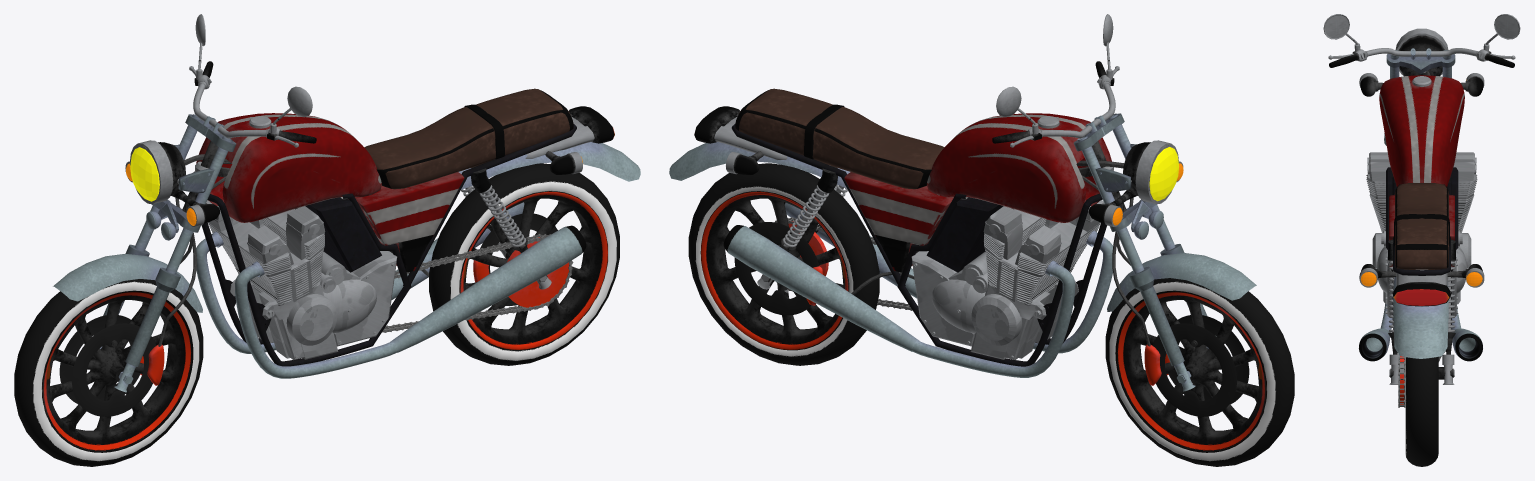
The model's file is Royal_Enfield_Classic_350.glb.
The picture shows the model from 3 angles, left to right: view 1: azimuth 30°, elevation 25°; view 2: azimuth 150°, elevation 25°; view 3: azimuth 270°, elevation 25°; orthographic projection. The views are drawn at different scales.
Parts seen in each view (by area): view 1: G_Metales_MTA_Metales_0, G_Pintura_Metalica_MTA_Pintura_Metalica_0, G_Metales_2, G_Llanta_MTA_Llanta_0, G_Motor_MTA_Motor_0, G_Asiento_MTA_Asiento_0, G_freno_MTA_Freno_0, G_Cadena_MTA_Cadena_0, G_Luces_MTA_Luces_0, G_Cables_MTA_Cables_0; view 2: G_Metales_MTA_Metales_0, G_Pintura_Metalica_MTA_Pintura_Metalica_0, G_Metales_2, G_Llanta_MTA_Llanta_0, G_Motor_MTA_Motor_0, G_Asiento_MTA_Asiento_0, G_freno_MTA_Freno_0, G_Luces_MTA_Luces_0, G_Cables_MTA_Cables_0; view 3: G_Pintura_Metalica_MTA_Pintura_Metalica_0, G_Metales_MTA_Metales_0, G_Metales_2, G_Asiento_MTA_Asiento_0, G_Motor_MTA_Motor_0, G_Llanta_MTA_Llanta_0, G_Luces_MTA_Luces_0, G_Cadena_MTA_Cadena_0.
Boxes of the visible parts, bbox=[...] form: G_Metales_MTA_Metales_0: bbox=[42, 14, 614, 452]; G_Pintura_Metalica_MTA_Pintura_Metalica_0: bbox=[196, 113, 576, 366]; G_Metales_2: bbox=[53, 114, 640, 392]; G_Llanta_MTA_Llanta_0: bbox=[14, 163, 619, 466]; G_Motor_MTA_Motor_0: bbox=[206, 200, 397, 360]; G_Asiento_MTA_Asiento_0: bbox=[364, 88, 573, 189]; G_freno_MTA_Freno_0: bbox=[59, 213, 557, 416]; G_Cadena_MTA_Cadena_0: bbox=[382, 234, 573, 332]; G_Luces_MTA_Luces_0: bbox=[126, 128, 614, 225]; G_Cables_MTA_Cables_0: bbox=[158, 154, 470, 346]; G_Metales_MTA_Metales_0: bbox=[694, 14, 1266, 452]; G_Pintura_Metalica_MTA_Pintura_Metalica_0: bbox=[731, 113, 1111, 366]; G_Metales_2: bbox=[669, 113, 1256, 391]; G_Llanta_MTA_Llanta_0: bbox=[688, 163, 1294, 466]; G_Motor_MTA_Motor_0: bbox=[911, 200, 1104, 360]; G_Asiento_MTA_Asiento_0: bbox=[735, 88, 944, 189]; G_freno_MTA_Freno_0: bbox=[734, 222, 1249, 416]; G_Luces_MTA_Luces_0: bbox=[1112, 147, 1183, 225]; G_Cables_MTA_Cables_0: bbox=[851, 160, 1150, 346]; G_Pintura_Metalica_MTA_Pintura_Metalica_0: bbox=[1379, 75, 1464, 324]; G_Metales_MTA_Metales_0: bbox=[1323, 14, 1520, 404]; G_Metales_2: bbox=[1358, 48, 1482, 361]; G_Asiento_MTA_Asiento_0: bbox=[1394, 183, 1449, 269]; G_Motor_MTA_Motor_0: bbox=[1366, 152, 1477, 316]; G_Llanta_MTA_Llanta_0: bbox=[1405, 357, 1438, 466]; G_Luces_MTA_Luces_0: bbox=[1360, 80, 1482, 305]; G_Cadena_MTA_Cadena_0: bbox=[1398, 354, 1405, 407].
Size of the model in its own units: 281 by 163 by 88.79.
10 materials, 10 textured.
